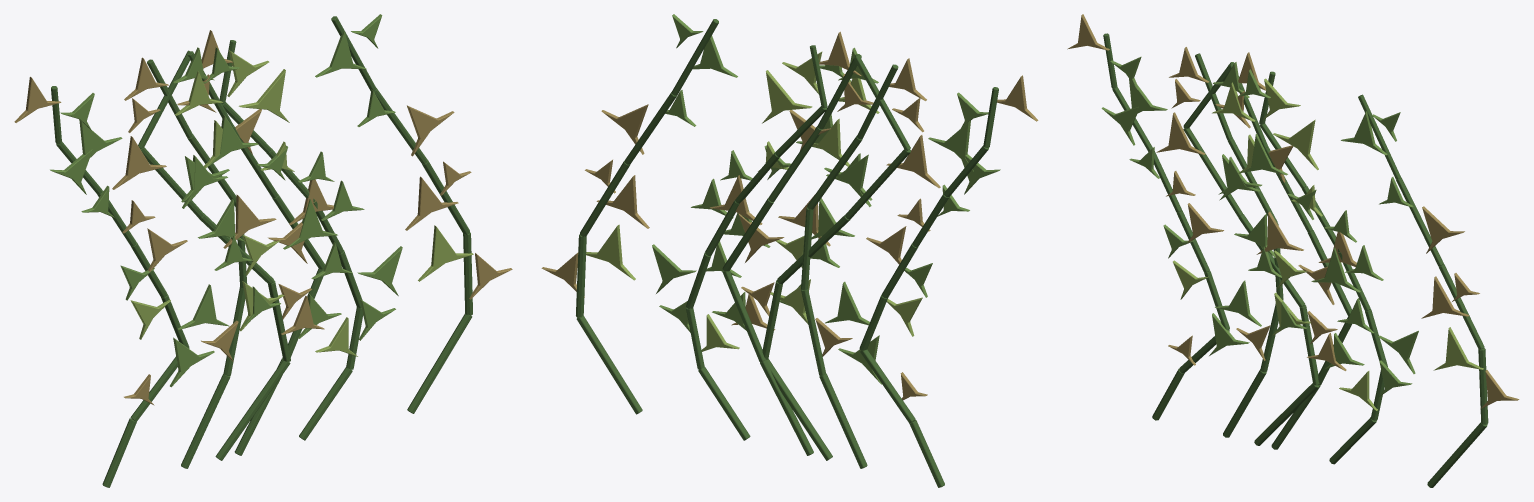
File: runtime.glb
3 views of the same model, side by side, from view 1: azimuth 30°, elevation 25°; view 2: azimuth 150°, elevation 25°; view 3: azimuth 330°, elevation 25° (orthographic). The views are drawn at different scales.
Parts seen in each view (by area): view 1: falkenwacht-wall-ivy-v07_nocol; view 2: falkenwacht-wall-ivy-v07_nocol; view 3: falkenwacht-wall-ivy-v07_nocol.
Part boxes in pixels (box(x1,y1,x2,y2)): falkenwacht-wall-ivy-v07_nocol: box(14, 14, 512, 487); falkenwacht-wall-ivy-v07_nocol: box(541, 14, 1038, 487); falkenwacht-wall-ivy-v07_nocol: box(1067, 14, 1519, 487).
Bounding box in the file's own units: 3.11 × 2.58 × 0.0843.
